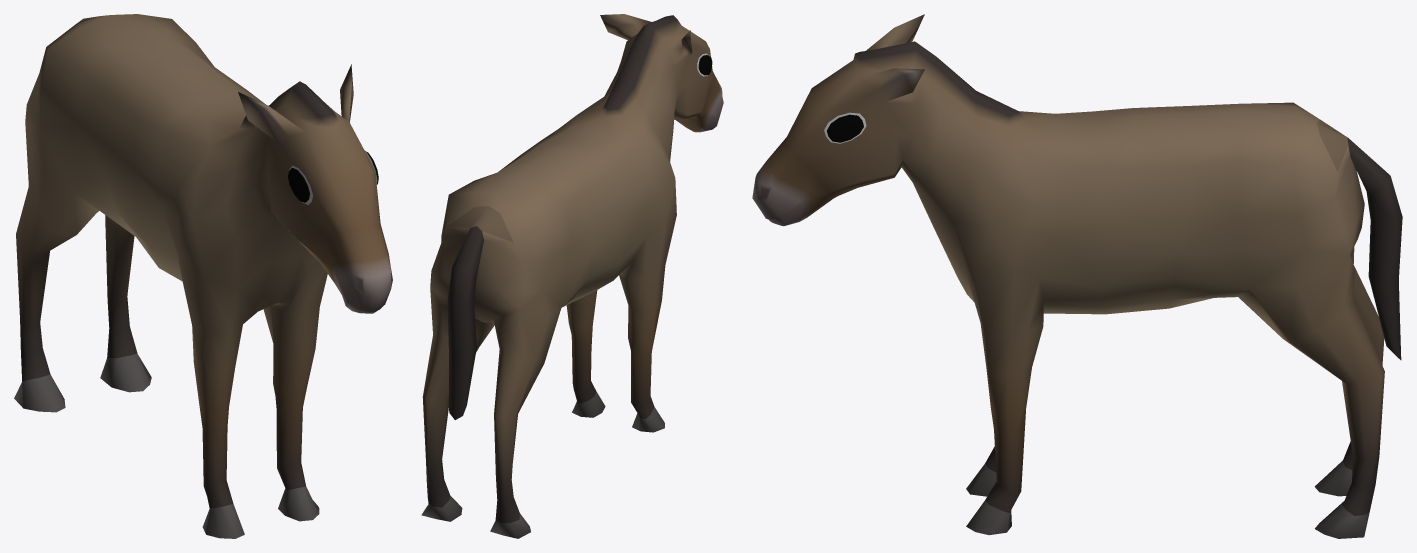
3 views of the same model, side by side, from view 1: azimuth 30°, elevation 25°; view 2: azimuth 150°, elevation 25°; view 3: azimuth 270°, elevation 25° (orthographic). The views are drawn at different scales.
Parts seen in each view (by area): view 1: base.069; view 2: base.069; view 3: base.069.
Part boxes in pixels (bbox=[...]): base.069: bbox=[14, 14, 392, 538]; base.069: bbox=[421, 14, 723, 538]; base.069: bbox=[752, 14, 1402, 538].
Bounding box in the file's own units: 0.1257 × 0.3957 × 0.5.
